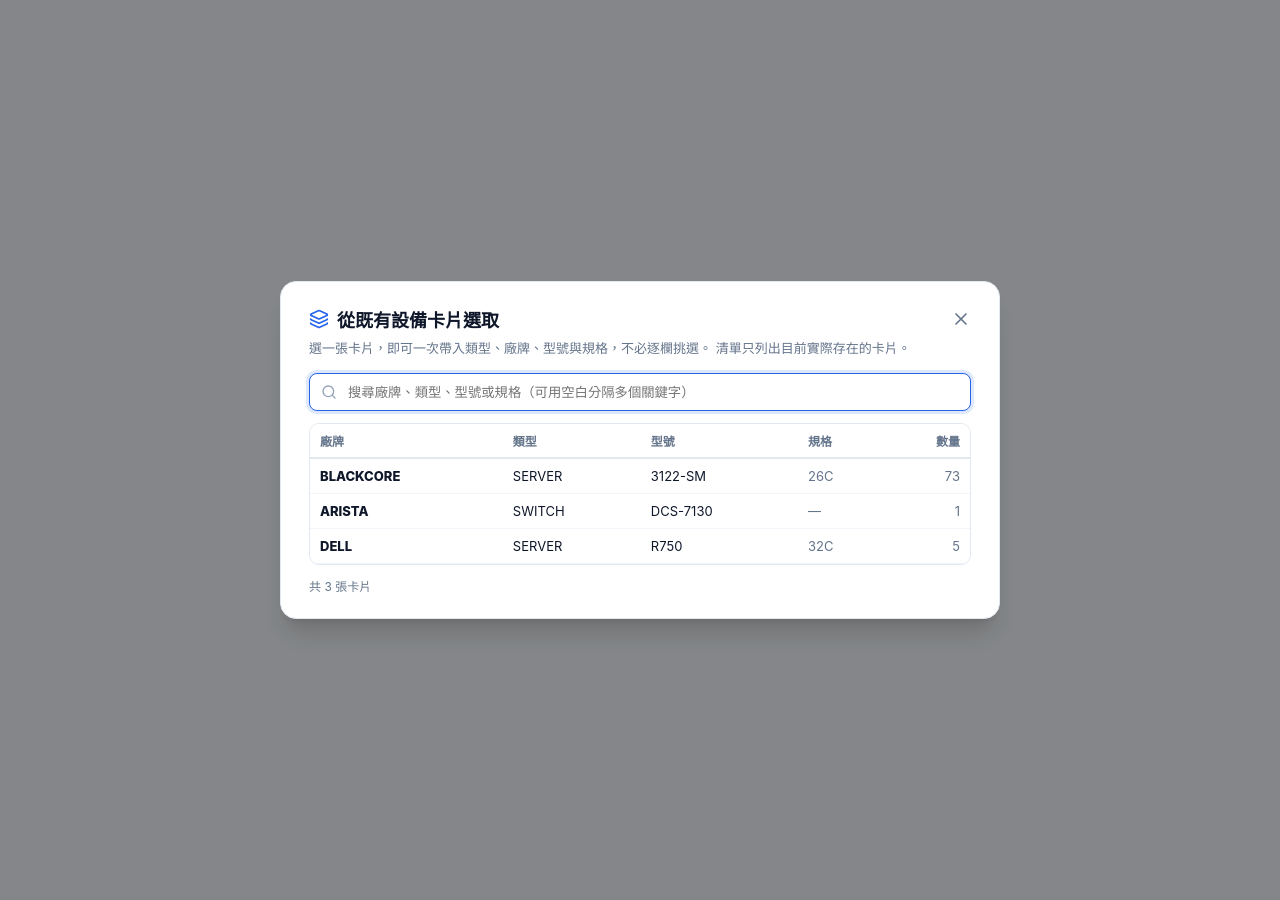
it: 從既有卡片選取 › 挑選視窗本身 › 可用多個關鍵字篩選，全部命中才顯示
Expected: the text "BLACKCORE" is shown, left=310, top=458, right=503, bottom=493
Type "dell server" into the field with placeholder "搜尋廠牌、類型、型號或規格（可用空白分隔多個關鍵字）" at (640, 392), box left=309, top=373, right=971, bottom=411
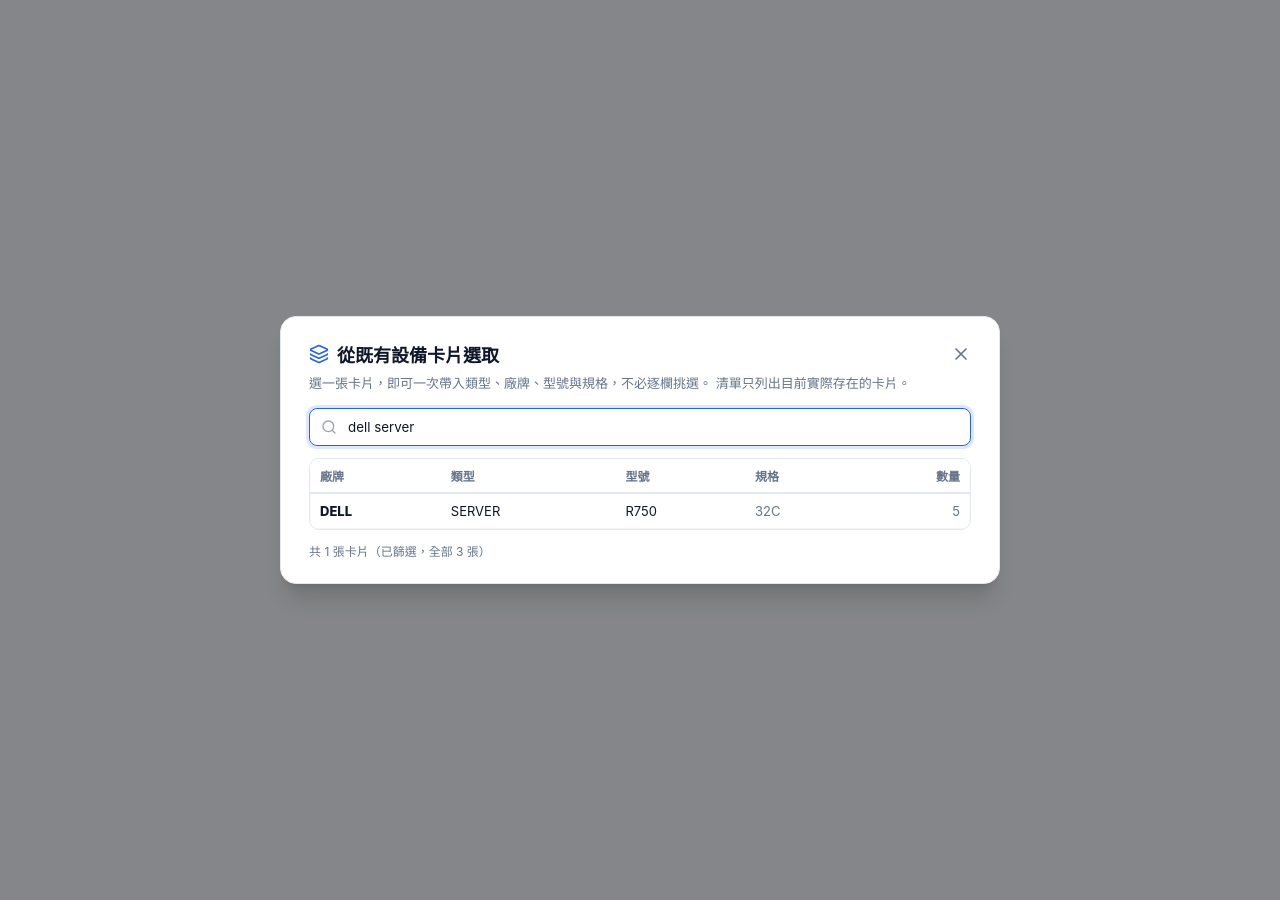
Expected: the text "DELL" is shown, left=310, top=493, right=441, bottom=528
Now the text "BLACKCORE" is gone
Now the text "ARISTA" is gone
